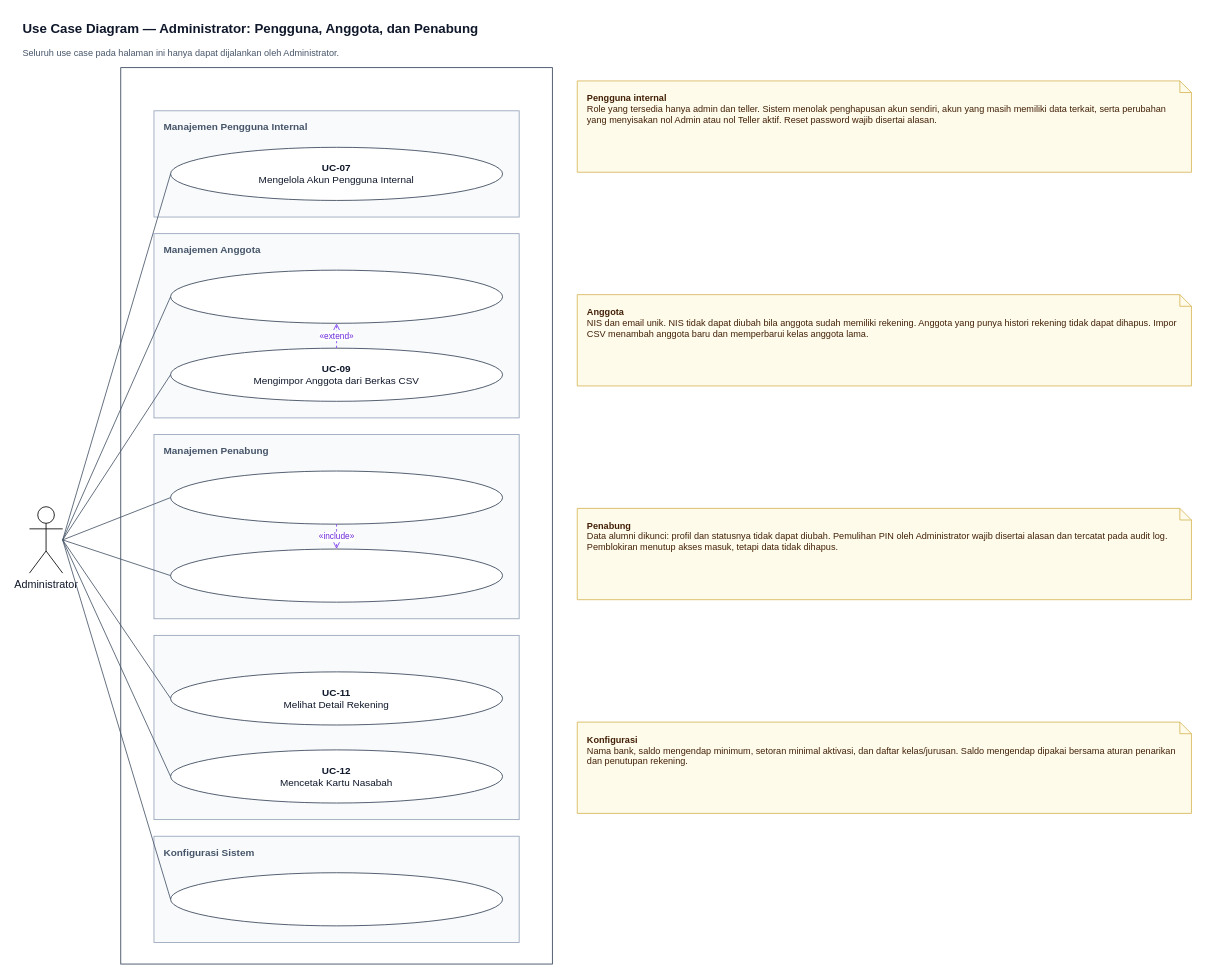
The diagram is 1206 pixels wide and 979 high, and some of its shapes have lost their labels. Here are the shapes that lost their labels. From the top down, the box of each, then its label:
(170, 269, 503, 323): UC-08 Mengelola Data Anggota
(120, 67, 552, 964): Bank Mini Sekolah — Modul Administrator: Data Induk
(170, 470, 503, 524): UC-10 Mengelola Data Penabung
(170, 548, 503, 602): UC-06 Mereset PIN Penabung
(153, 635, 519, 820): Rekening dan Kartu
(170, 872, 503, 926): UC-13 Mengatur Konfigurasi Sistem
